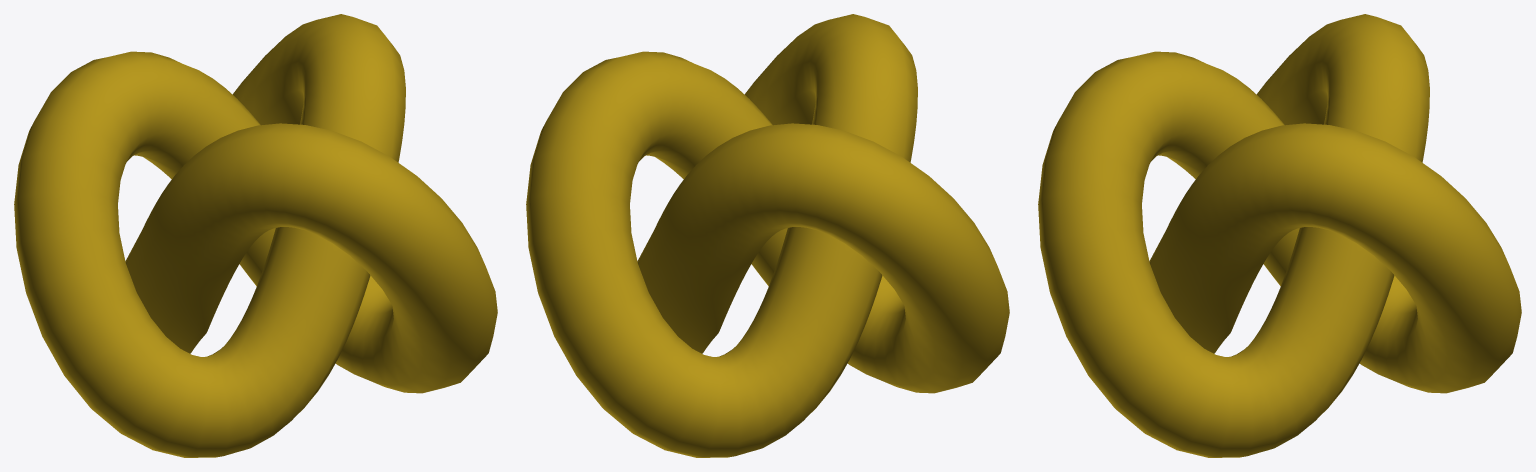
File: texturedknot.obj
The picture shows the model from 3 angles, left to right: view 1: azimuth 30°, elevation 25°; view 2: azimuth 150°, elevation 25°; view 3: azimuth 270°, elevation 25°; orthographic projection.
Size of the model in its own units: 171 by 134 by 181.
